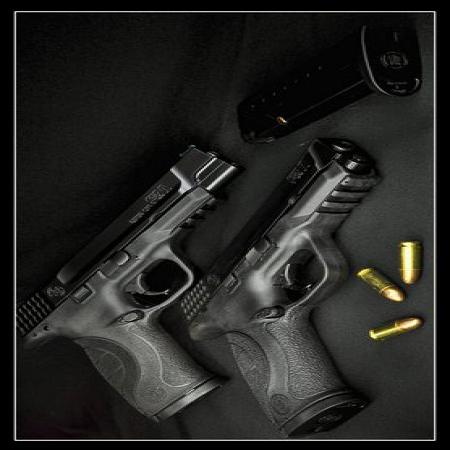Pistol: (17, 135, 250, 421), (176, 135, 384, 432)
